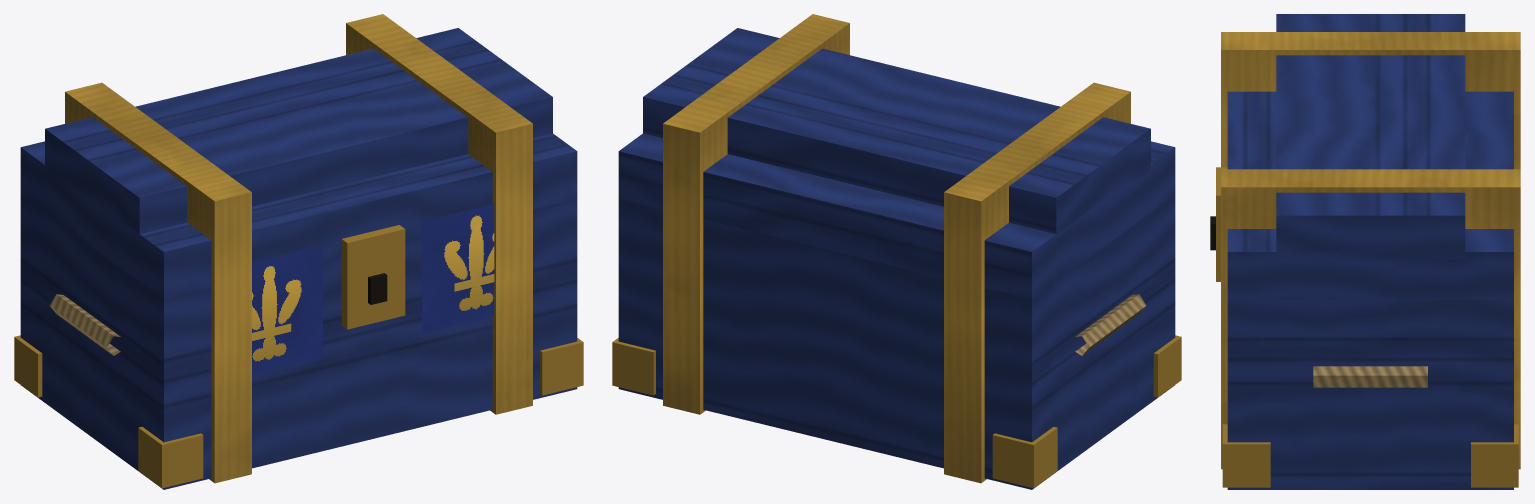
The model's file is prop_kist_blue.glb.
3 views of the same model, side by side, from view 1: azimuth 30°, elevation 25°; view 2: azimuth 150°, elevation 25°; view 3: azimuth 270°, elevation 25° (orthographic).
Parts seen in each view (by area): view 1: prop_kist_blue; view 2: prop_kist_blue; view 3: prop_kist_blue.
Boxes of the visible parts, x1,y1,x2,y2 form: prop_kist_blue: [14, 14, 583, 489]; prop_kist_blue: [612, 14, 1181, 489]; prop_kist_blue: [1210, 14, 1520, 489].
Size of the model in its own units: 0.5317 by 0.326 by 0.325.
Materials: 1 (1 with a texture image).
